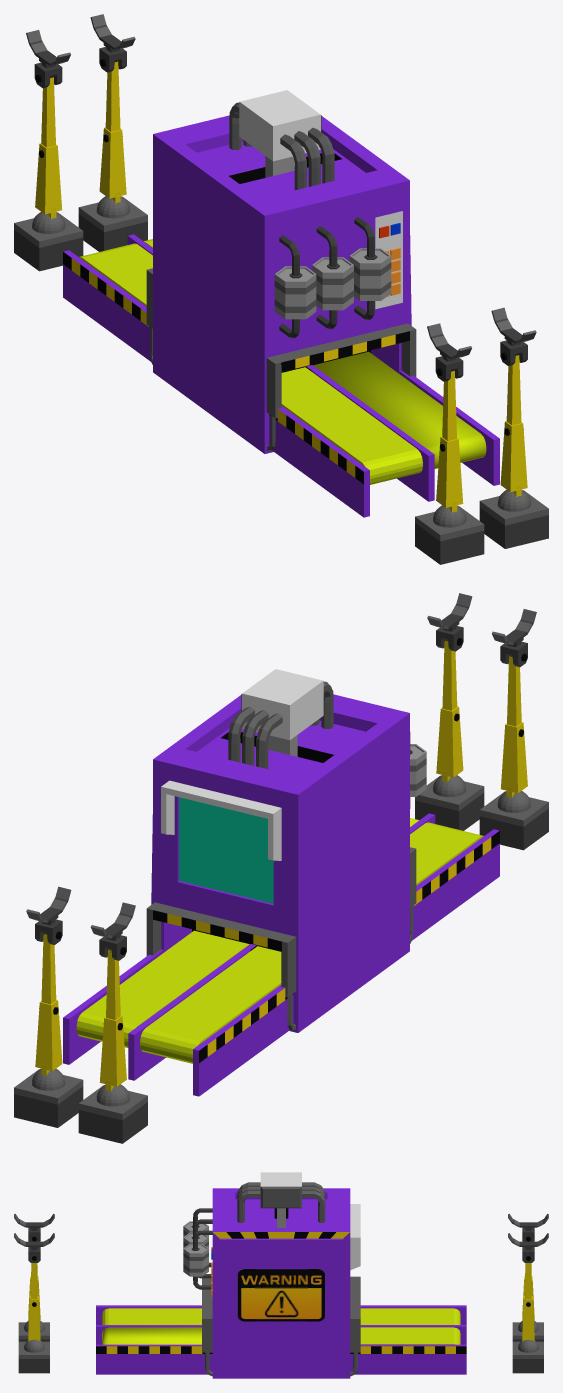
Rendered from NewBuildMachine.fbx.
The picture shows the model from 3 angles, top to bottom: view 1: azimuth 30°, elevation 25°; view 2: azimuth 150°, elevation 25°; view 3: azimuth 270°, elevation 25°; orthographic projection. The views are drawn at different scales.
Visible parts, largest first — view 1: Build Machine, Build MachineBelt2, Build Machine Head, Build MachineBelt1, Build Machine Arm1.5, Cube.013, Cube.014, Cube.015, Build MachineBelt4, Cube.030, Cube.016, Cube.023 (+9 smaller); view 2: Build Machine, Build MachineBelt4, Build Machine Head, Build MachineBelt3, Cube.014, Cube.015, Build Machine Arm1.5, Cube.013, Build MachineBelt2, Cube.016, Build Machine Arm1.1, Cube.030 (+9 smaller); view 3: Build Machine, Build Machine Door, Build Machine Head, Build MachineBelt3, Build MachineBelt1, Build MachineBelt4, Build MachineBelt2, Cube.015, Cube.013, Cube.016, Cube.030, Build Machine Arm1.5 (+5 smaller).
Boxes of the visible parts, x1,y1,x2,y2 form: Build Machine: (63,115,499,517); Build MachineBelt2: (281,367,422,484); Build Machine Head: (229,90,334,190); Build MachineBelt1: (313,351,486,468); Build Machine Arm1.5: (415,505,484,564); Cube.013: (479,489,548,548); Cube.014: (14,212,83,271); Cube.015: (78,196,147,251); Build MachineBelt4: (79,243,152,306); Cube.030: (99,127,126,203); Cube.016: (500,421,527,496); Cube.023: (35,143,62,218); Build Machine: (63,694,499,1096); Build MachineBelt4: (140,946,281,1063); Build Machine Head: (228,669,333,769); Build MachineBelt3: (76,930,249,1047); Cube.014: (78,1084,147,1143); Cube.015: (14,1068,83,1127); Build Machine Arm1.5: (479,791,548,850); Cube.013: (415,775,484,830); Build MachineBelt2: (410,822,483,885); Cube.016: (436,706,463,782); Build Machine Arm1.1: (501,722,527,797); Cube.030: (35,1000,62,1075); Build Machine: (96,1188,466,1378); Build Machine Door: (219,1238,343,1374); Build Machine Head: (237,1172,325,1227); Build MachineBelt3: (360,1327,460,1344); Build MachineBelt1: (102,1327,201,1344); Build MachineBelt4: (360,1308,460,1324); Build MachineBelt2: (102,1308,201,1324); Cube.015: (512,1340,543,1373); Cube.013: (18,1340,49,1373); Cube.016: (28,1296,40,1341); Cube.030: (522,1296,534,1341); Build Machine Arm1.5: (18,1321,49,1341).
Size of the model in its own units: 318 by 1553 by 568.
